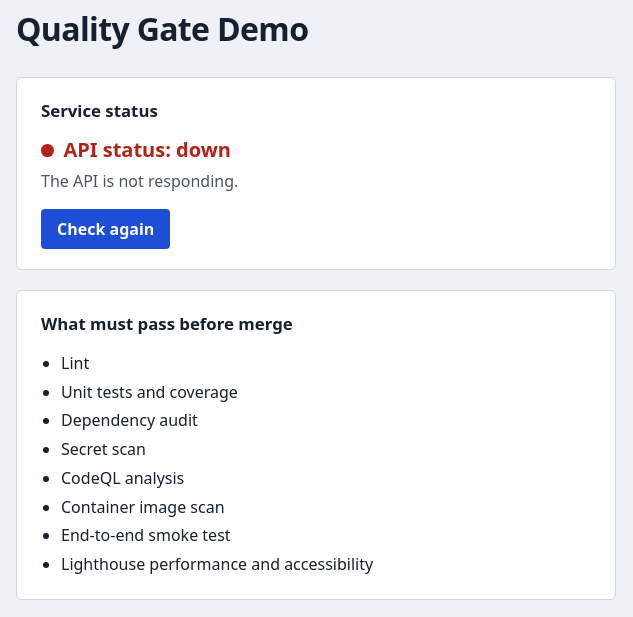
Scenario: App › re-checks when the button is clicked
This screenshot has width=633, height=617.
Check: the text "API status: down" is shown, box [63,135,231,165]
Click the button "Check again": (106, 229) [41,209,170,249]
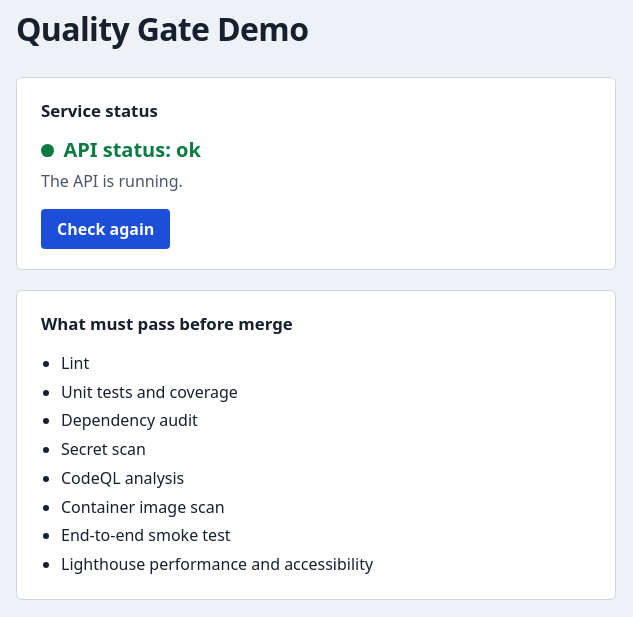
Check: the text "API status: ok" is shown, box [63,135,201,165]
